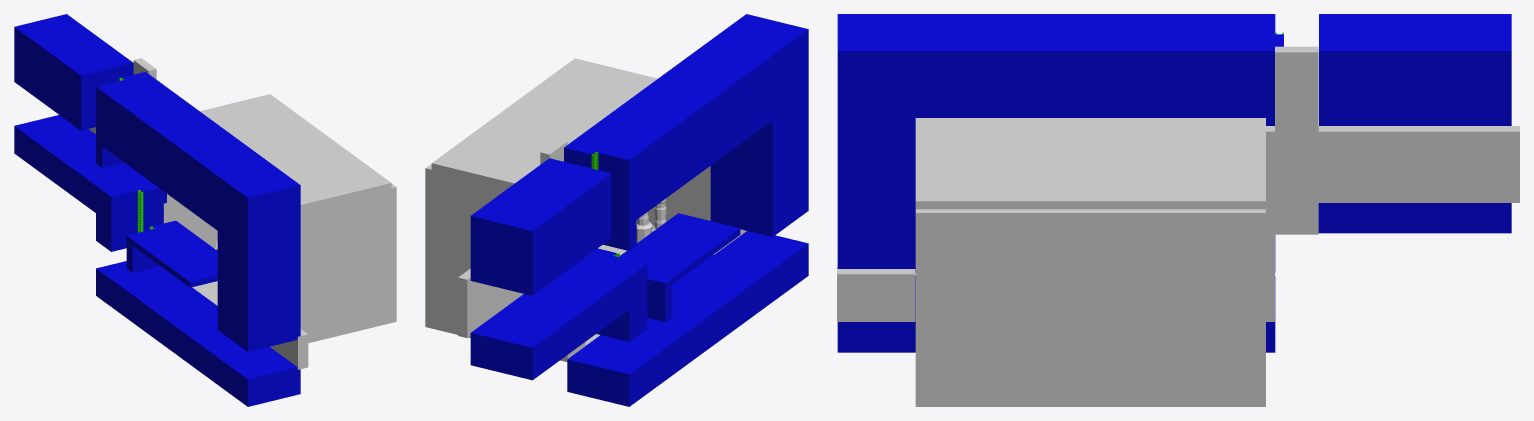
Rendered from Level_3_scene8_colored_bg.fbx.
3 views of the same model, side by side, from view 1: azimuth 30°, elevation 25°; view 2: azimuth 150°, elevation 25°; view 3: azimuth 270°, elevation 25° (orthographic). The views are drawn at different scales.
Parts seen in each view (by area): view 1: Cube.004, Cube.152, Cube.151, Cube.080, Cube.158, Cube.150, Cube.005, Cube.154; view 2: Cube.004, Cube.151, Cube.152, Cube.080, Cube.150, cell.004, Cube.001; view 3: Cube.004, Cube.152, Cube.151, Cube.150, Cube.158.
Boxes of the visible parts, <box> form: Cube.004: <box>14,14,300,406</box>; Cube.152: <box>171,184,396,346</box>; Cube.151: <box>200,94,391,210</box>; Cube.080: <box>126,223,217,287</box>; Cube.158: <box>270,329,308,369</box>; Cube.150: <box>89,58,171,223</box>; Cube.005: <box>141,186,166,208</box>; Cube.154: <box>192,248,217,305</box>; Cube.004: <box>470,14,808,406</box>; Cube.151: <box>431,58,657,188</box>; Cube.152: <box>425,164,717,337</box>; Cube.080: <box>620,213,740,321</box>; Cube.150: <box>458,139,585,361</box>; cell.004: <box>636,198,666,243</box>; Cube.001: <box>564,145,594,168</box>; Cube.004: <box>837,14,1511,352</box>; Cube.152: <box>915,209,1265,406</box>; Cube.151: <box>915,118,1265,209</box>; Cube.150: <box>1266,46,1519,321</box>; Cube.158: <box>837,267,915,321</box>.
Bounding box in the file's own units: 3348 × 3854 × 7798.
